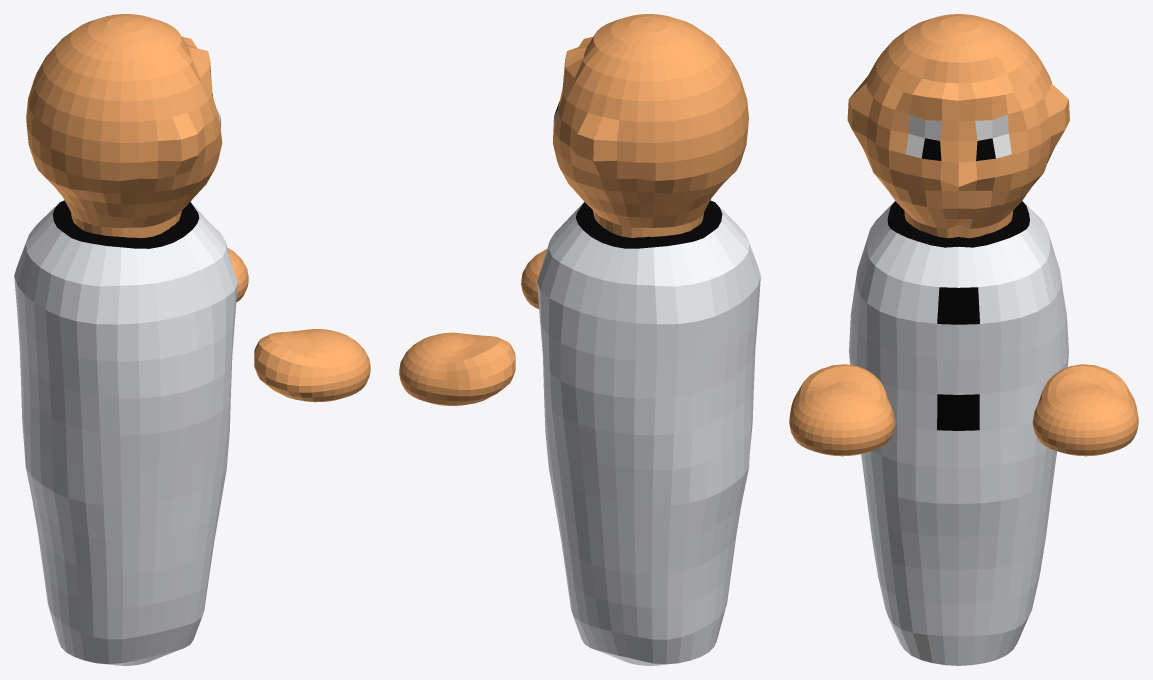
File: person.fbx
3 views of the same model, side by side, from view 1: azimuth 30°, elevation 25°; view 2: azimuth 150°, elevation 25°; view 3: azimuth 270°, elevation 25° (orthographic).
Visible parts, largest first — view 1: body, head, hand-left, hand-right; view 2: body, head, hand-right, hand-left; view 3: body, head, hand-left, hand-right.
Boxes of the visible parts, left/top/right/bottom form: body: left=14, top=200, right=237, bottom=665; head: left=26, top=14, right=222, bottom=238; hand-left: left=254, top=329, right=370, bottom=402; hand-right: left=227, top=248, right=248, bottom=302; body: left=537, top=200, right=760, bottom=665; head: left=552, top=14, right=748, bottom=237; hand-right: left=399, top=332, right=515, bottom=405; hand-left: left=521, top=249, right=546, bottom=308; body: left=849, top=201, right=1068, bottom=665; head: left=847, top=14, right=1069, bottom=238; hand-left: left=789, top=364, right=895, bottom=456; hand-right: left=1032, top=364, right=1138, bottom=456.
Bounding box in the file's own units: 1.16 × 2.59 × 1.3.
